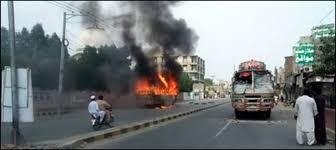fire: (130, 67, 183, 106)
